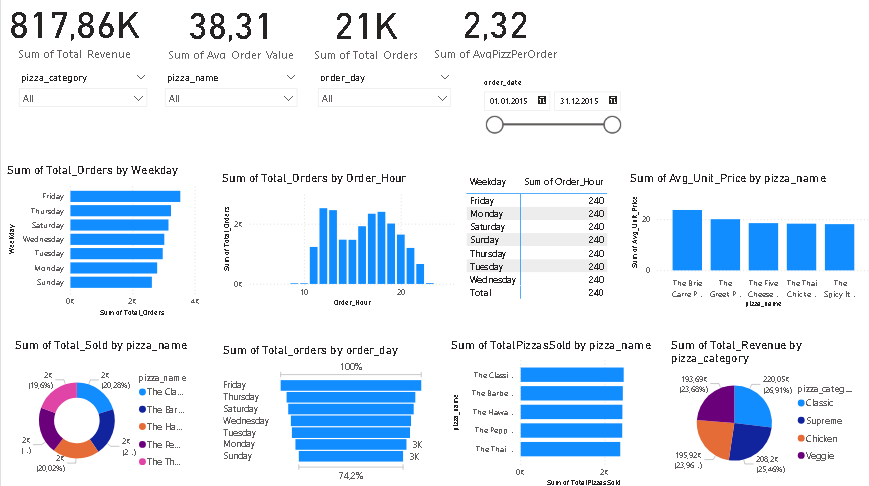

The dashboard page shown, as its layout file describes it:
{"tool":"powerbi","page":{"name":"Page 1","canvas":[1280,720],"ordinal":0},"visuals":[{"type":"card","fields":{"Values":["Sum(Query1.Total_Revenue)"]},"box":[0,0,241.7,100],"z":0},{"type":"card","fields":{"Values":["Sum(Query2.Total_Orders)"]},"box":[463.8,0,159.4,101.4],"z":1000},{"type":"card","fields":{"Values":["Sum(Query3.Avg_Order_Value)"]},"box":[236.2,1.4,223.2,98.6],"z":2000},{"type":"barChart","fields":{"Y":["Sum(Query5.Total_Orders)"],"Category":["Query5.Weekday"]},"box":[18.3,246.7,288.3,226.7],"z":3000},{"type":"columnChart","fields":{"Y":["Sum(Query6.Total_Orders)"],"Category":["Query6.Order_Hour"]},"box":[330,258.3,346.7,201.7],"z":4000},{"type":"pieChart","fields":{"Y":["Sum(Query7.Total_Revenue)"],"Category":["Query7.pizza_category"]},"box":[981.7,500,283.3,208.3],"z":5000},{"type":"donutChart","fields":{"Category":["Query8.pizza_name"],"Y":["Sum(Query8.Total_Sold)"]},"box":[30,500,265,220],"z":6000},{"type":"funnel","fields":{"Category":["Query9.order_day"],"Y":["Sum(Query9.Total_orders)"]},"box":[331.7,506.7,301.7,206.7],"z":7000},{"type":"clusteredBarChart","fields":{"Category":["Query16.pizza_name"],"Y":["Sum(Query16.TotalPizzasSold)"]},"box":[661.7,500,300,220],"z":8000},{"type":"slicer","fields":{"Values":["Query9.order_day"]},"box":[463.8,110.1,213,85.5],"z":9000},{"type":"slicer","fields":{"Values":["Query7.pizza_category"]},"box":[30.4,110.1,205.8,85.5],"z":10000},{"type":"slicer","fields":{"Values":["Query16.pizza_name"]},"box":[242,110.1,211.6,85.5],"z":11000},{"type":"slicer","fields":{"Values":["Query20.order_date"]},"box":[701.7,118.3,220,110],"z":12000},{"type":"card","fields":{"Values":["Sum(Query21.AvgPizzPerOrder)"]},"box":[633.3,0,196.7,100],"z":13001},{"type":"pivotTable","fields":{"Rows":["Query5.Weekday"],"Values":["Sum(Query6.Order_Hour)"]},"box":[676.8,246.4,256.5,201.4],"z":13002},{"type":"clusteredColumnChart","fields":{"Category":["Query22.pizza_name"],"Y":["Sum(Query22.Avg_Unit_Price)"]},"box":[922.5,258.8,357.5,202.5],"z":13003}]}

Visuals, with their boxes in screenshot pixels (x1, y1, x2, y2), scaled from the page's 1280x720 canvas onto the 869x486 screenshot:
card - Sum(Query1.Total_Revenue): locate(0, 0, 164, 68)
card - Sum(Query2.Total_Orders): locate(315, 0, 423, 68)
card - Sum(Query3.Avg_Order_Value): locate(160, 1, 312, 68)
barChart - Sum(Query5.Total_Orders) x Query5.Weekday: locate(12, 167, 208, 320)
columnChart - Sum(Query6.Total_Orders) x Query6.Order_Hour: locate(224, 174, 459, 310)
pieChart - Sum(Query7.Total_Revenue) x Query7.pizza_category: locate(666, 338, 859, 478)
donutChart - Query8.pizza_name x Sum(Query8.Total_Sold): locate(20, 338, 200, 485)
funnel - Query9.order_day x Sum(Query9.Total_orders): locate(225, 342, 430, 482)
clusteredBarChart - Query16.pizza_name x Sum(Query16.TotalPizzasSold): locate(449, 338, 653, 485)
slicer - Query9.order_day: locate(315, 74, 459, 132)
slicer - Query7.pizza_category: locate(21, 74, 160, 132)
slicer - Query16.pizza_name: locate(164, 74, 308, 132)
slicer - Query20.order_date: locate(476, 80, 626, 154)
card - Sum(Query21.AvgPizzPerOrder): locate(430, 0, 563, 68)
pivotTable - Query5.Weekday x Sum(Query6.Order_Hour): locate(459, 166, 634, 302)
clusteredColumnChart - Query22.pizza_name x Sum(Query22.Avg_Unit_Price): locate(626, 175, 868, 311)
